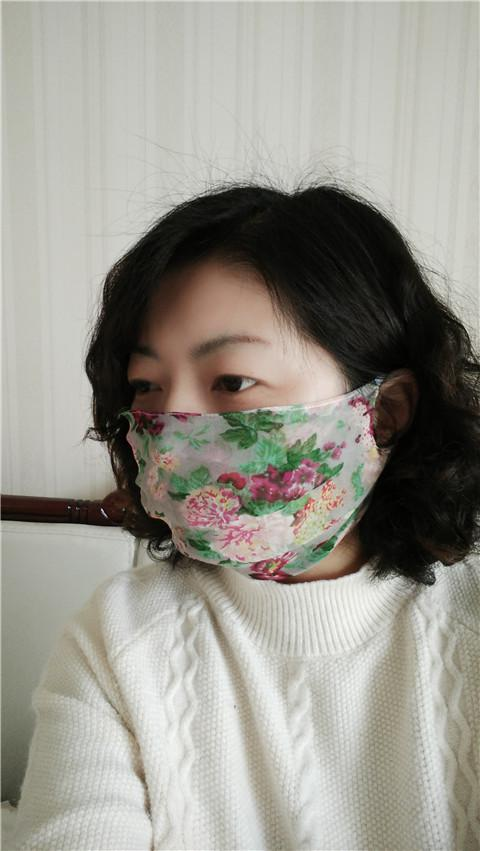OK: (119, 326, 353, 560)
